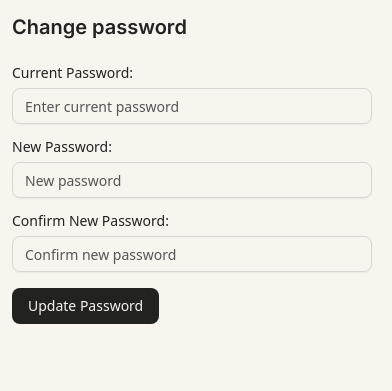
Test case: ChangePassword Component (src/components/account/ChangePassword.tsx) › shows validation error if new password is same as current password
Type "password123" into the password field labelled "Current Password:".
click(192, 106); type("password123")  # box [12,88,372,124]
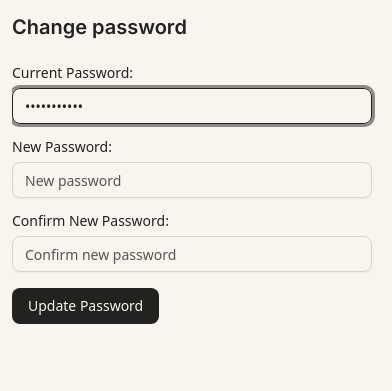
Type "password123" into the password field labelled "New Password:".
click(192, 180); type("password123")  # box [12,162,372,198]
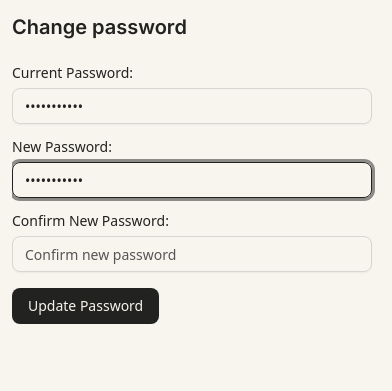
Type "password123" into the password field labelled "Confirm New Password:".
click(192, 254); type("password123")  # box [12,236,372,272]
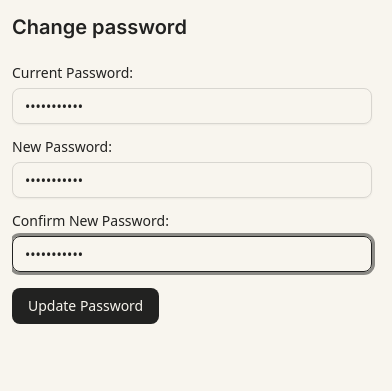
Click the button "Update Password".
click(86, 306)  # box [12,288,159,324]
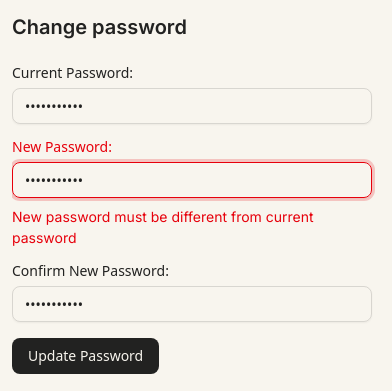
expect the text "New password must be different from current password" is shown: met, box [12,208,314,246]
